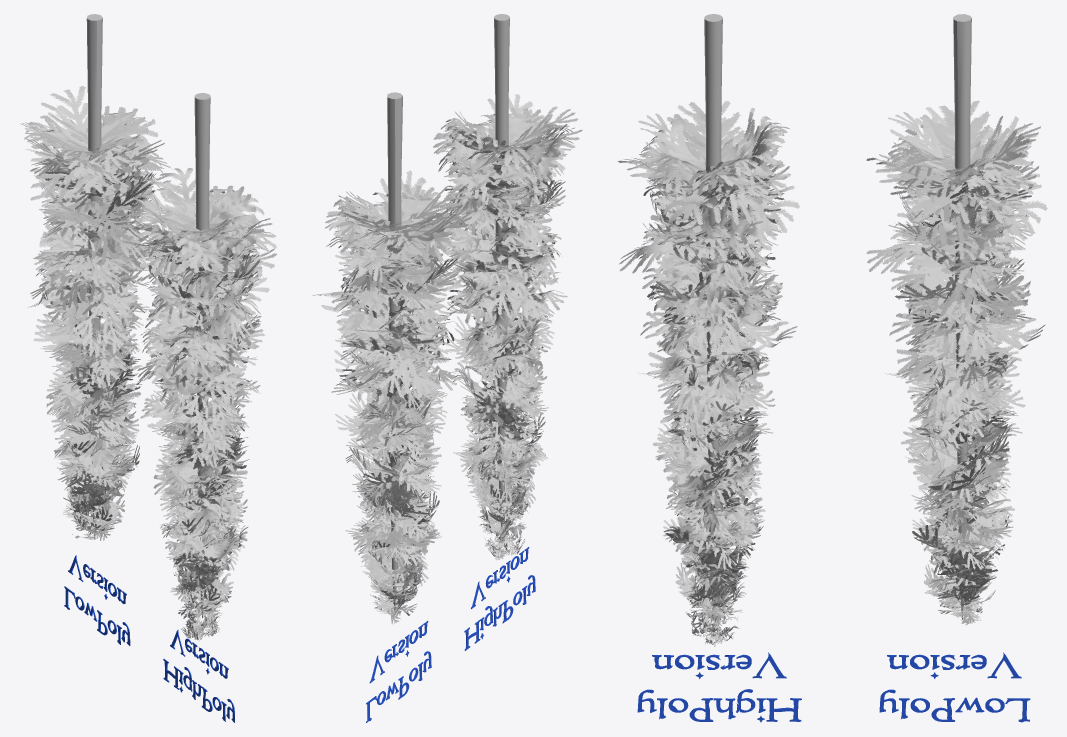
File: PineTrees.fbx
The picture shows the model from 3 angles, left to right: view 1: azimuth 30°, elevation 25°; view 2: azimuth 150°, elevation 25°; view 3: azimuth 270°, elevation 25°; orthographic projection. The views are drawn at different scales.
Visible parts, largest first — view 1: Tree_Highpoly, Tree_Lowpoly, Text.001, Text; view 2: Tree_Lowpoly, Tree_Highpoly, Text.001, Text; view 3: Tree_Highpoly, Tree_Lowpoly, Text.001, Text.
Part boxes in pixels (x1=…): Tree_Highpoly: x1=126, y1=93, x2=277, y2=641; Tree_Lowpoly: x1=20, y1=14, x2=171, y2=540; Text.001: x1=163, y1=630, x2=234, y2=722; Text: x1=64, y1=555, x2=130, y2=645; Tree_Lowpoly: x1=312, y1=92, x2=475, y2=624; Tree_Highpoly: x1=433, y1=14, x2=582, y2=559; Text.001: x1=464, y1=547, x2=535, y2=650; Text: x1=366, y1=621, x2=431, y2=722; Tree_Highpoly: x1=617, y1=14, x2=799, y2=646; Tree_Lowpoly: x1=866, y1=14, x2=1047, y2=625; Text.001: x1=637, y1=652, x2=801, y2=722; Text: x1=879, y1=652, x2=1030, y2=722.
Bounding box in the file's own units: 529 × 239 × 938.
